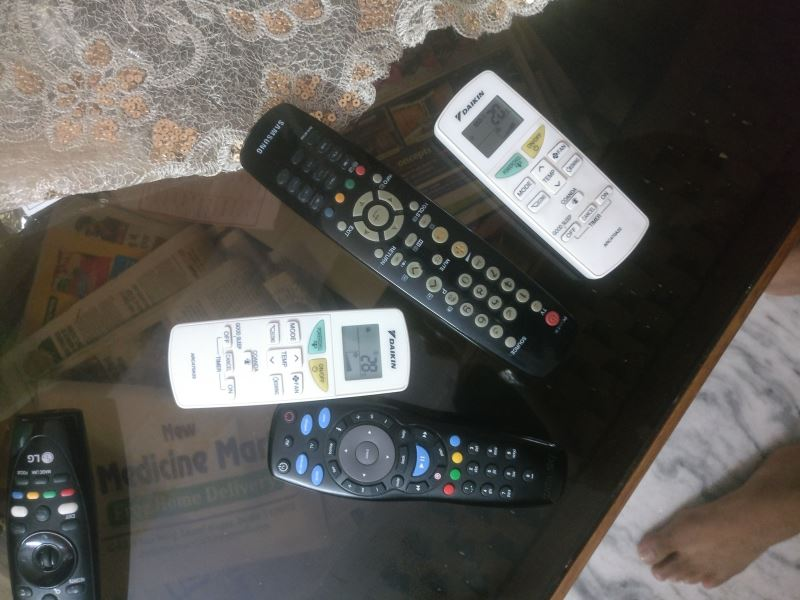ac remote: (435, 70, 650, 278), (164, 309, 429, 403)
tv remote: (239, 104, 573, 377), (271, 400, 567, 504), (9, 413, 94, 600)
